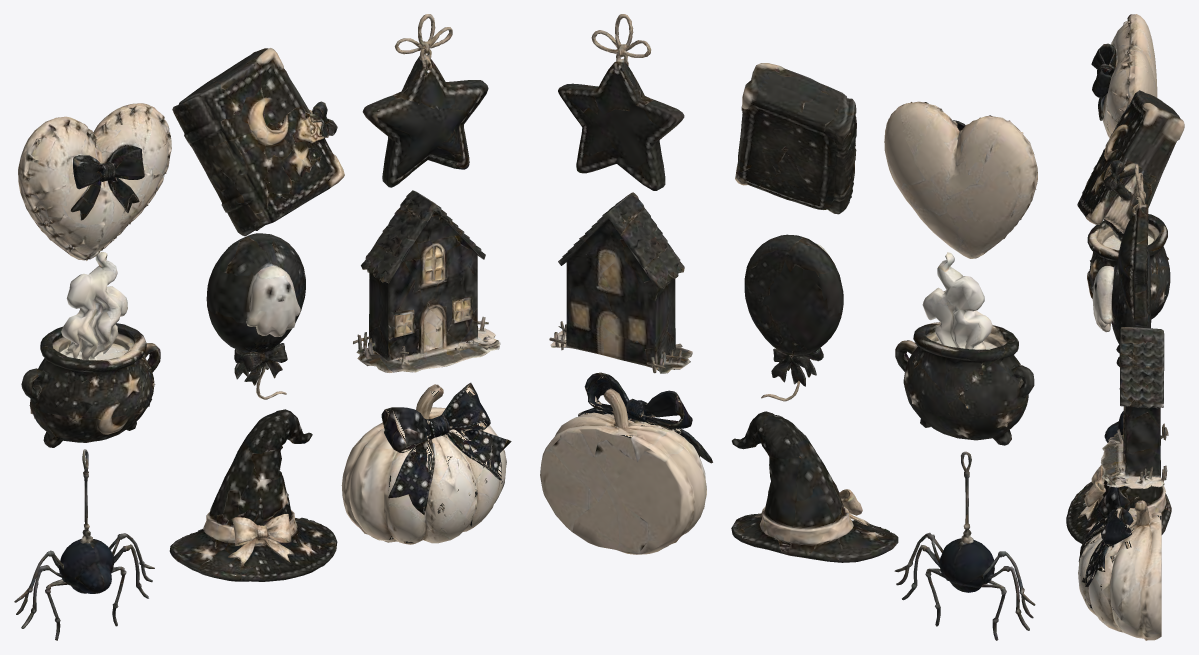
The picture shows the model from 3 angles, left to right: view 1: azimuth 30°, elevation 25°; view 2: azimuth 150°, elevation 25°; view 3: azimuth 270°, elevation 25°; orthographic projection. The views are drawn at different scales.
Parts seen in each view (by area): view 1: Mesh 7, Mesh 5, Mesh 8, Mesh 2, Mesh 3, Mesh 4, Mesh 6, Mesh 9, Mesh 1; view 2: Mesh 7, Mesh 2, Mesh 8, Mesh 3, Mesh 5, Mesh 4, Mesh 6, Mesh 9, Mesh 1; view 3: Mesh 7, Mesh 5, Mesh 8, Mesh 2, Mesh 9, Mesh 3, Mesh 4, Mesh 6, Mesh 1.
Boxes of the visible parts, x1,y1,x2,y2 form: Mesh 7: [341, 382, 511, 544]; Mesh 5: [172, 48, 344, 236]; Mesh 8: [353, 190, 500, 372]; Mesh 2: [18, 103, 171, 260]; Mesh 3: [21, 252, 160, 447]; Mesh 4: [169, 409, 337, 581]; Mesh 6: [206, 233, 305, 399]; Mesh 9: [362, 14, 488, 187]; Mesh 1: [14, 449, 154, 640]; Mesh 7: [540, 372, 712, 554]; Mesh 2: [884, 101, 1037, 258]; Mesh 8: [549, 192, 692, 373]; Mesh 3: [895, 252, 1034, 445]; Mesh 5: [735, 63, 856, 214]; Mesh 4: [731, 411, 898, 562]; Mesh 6: [744, 234, 843, 401]; Mesh 9: [558, 14, 684, 190]; Mesh 1: [894, 451, 1035, 640]; Mesh 7: [1078, 486, 1161, 640]; Mesh 5: [1077, 90, 1184, 241]; Mesh 8: [1101, 327, 1168, 488]; Mesh 2: [1091, 14, 1157, 138]; Mesh 9: [1118, 164, 1148, 326]; Mesh 3: [1087, 214, 1170, 319]; Mesh 4: [1066, 428, 1171, 544]; Mesh 6: [1091, 251, 1151, 366]; Mesh 1: [1104, 411, 1123, 442].
Size of the model in its own units: 1.8 by 1.9 by 0.4319.
9 materials, 9 textured.
